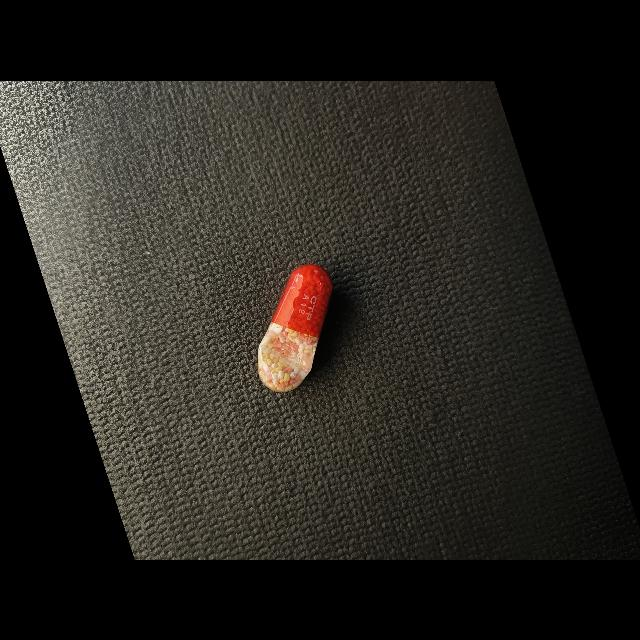Defective Capsule: (258, 264, 332, 391)
